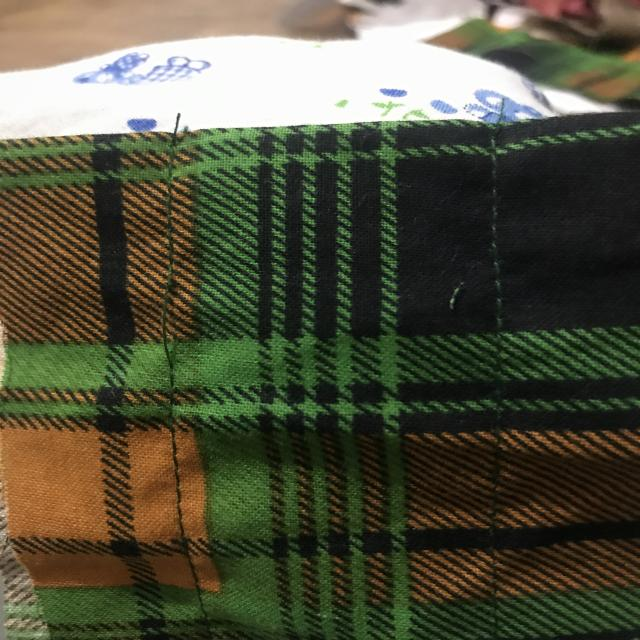good: (159, 436, 205, 542)
skip: (150, 265, 206, 375)
